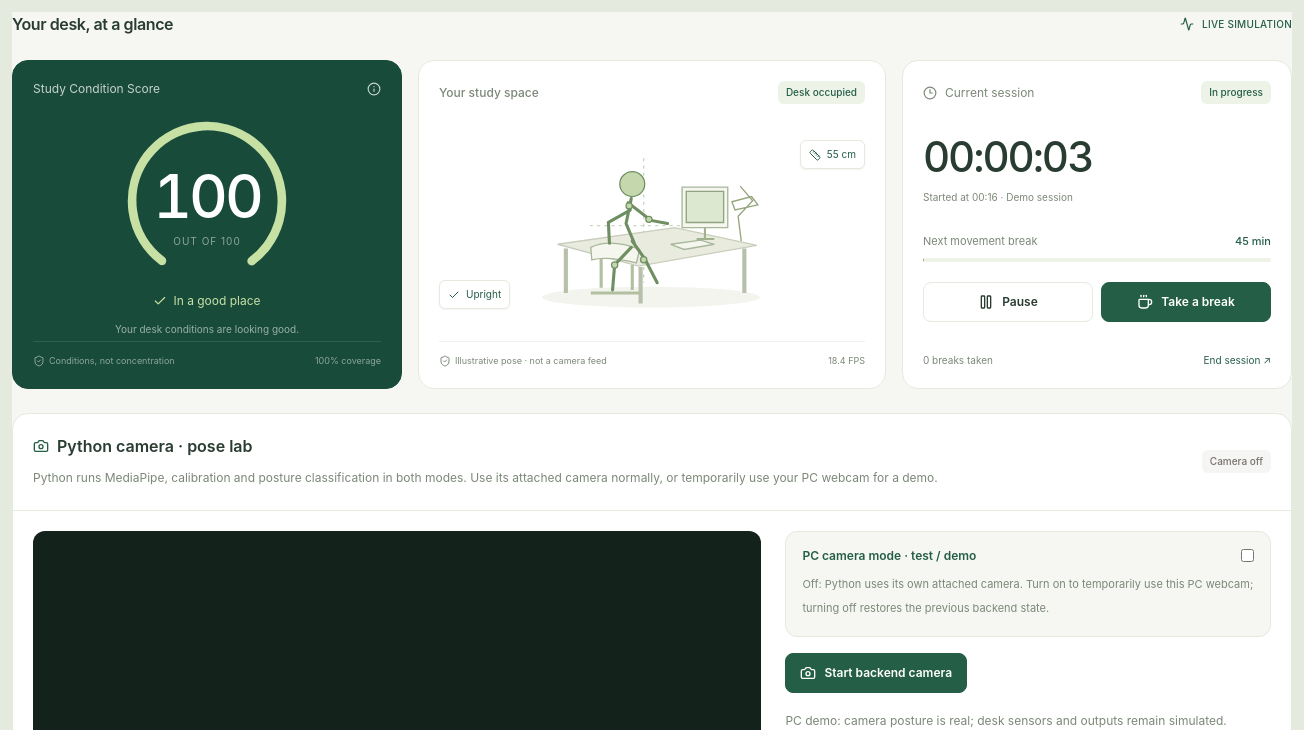
Test: live session controls › pauses through the API and updates available actions from returned state
Click the button "Pause". click: (1008, 302)
box: [923,282,1093,322]
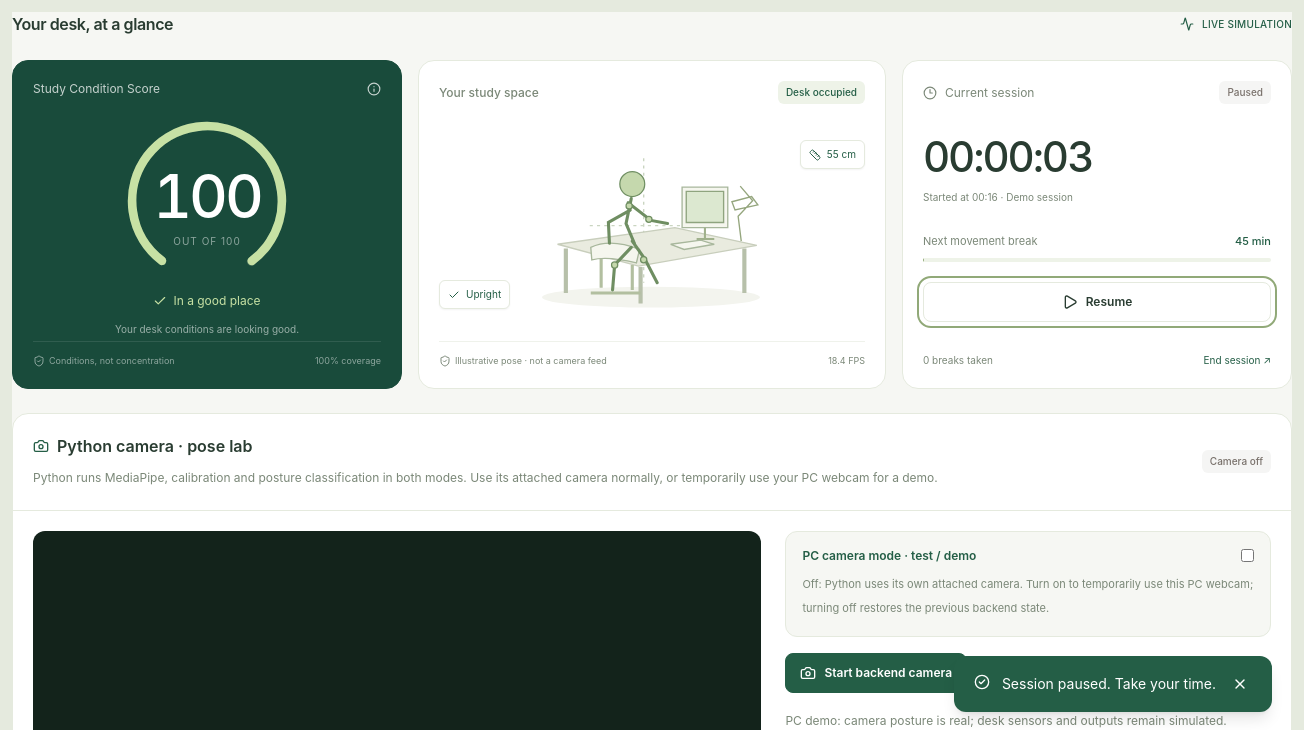
Expected: the button "Resume" is shown, [923,282,1271,322]
Expected: the button "Take a break" is gone
